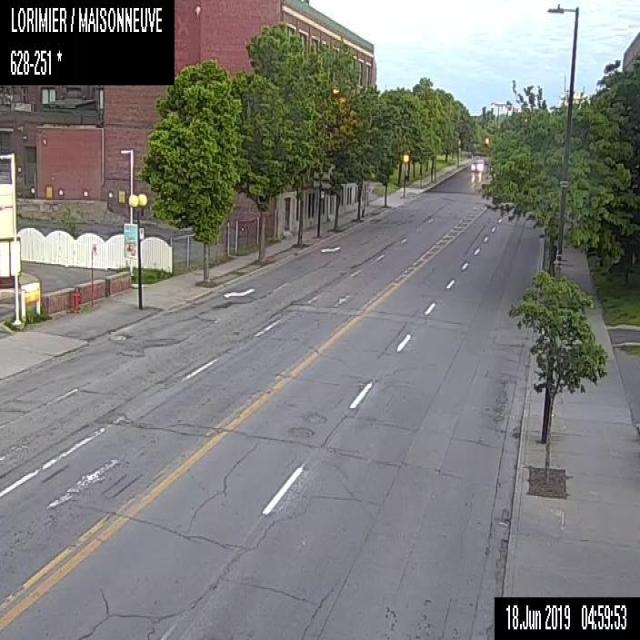vehicle: (469, 157, 484, 172)
